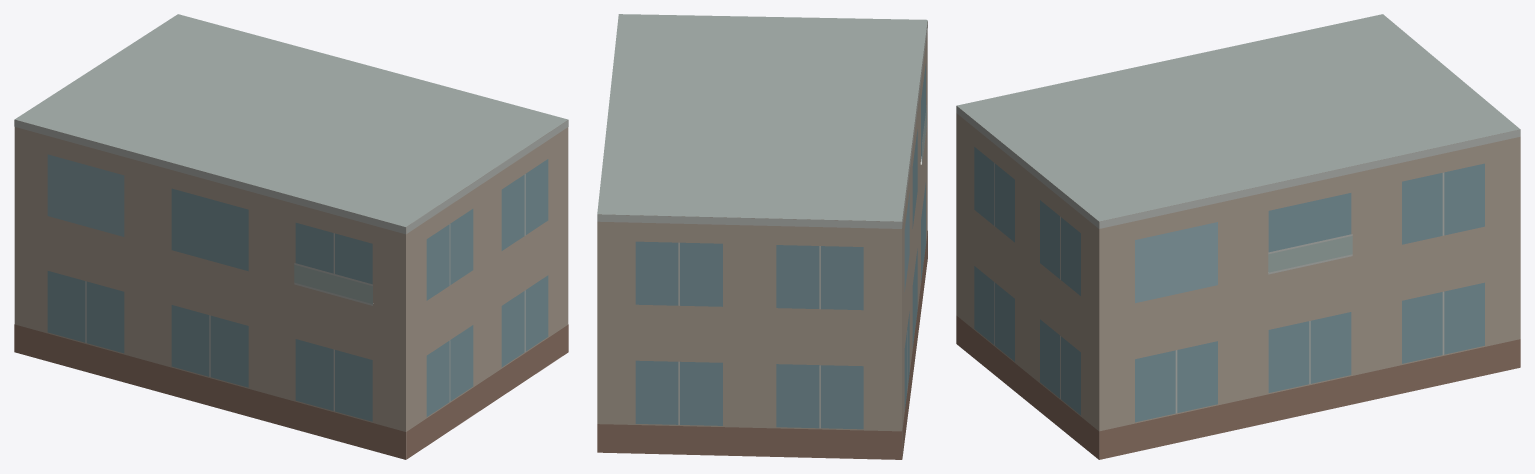
File: survey-upis-32740828.glb
The picture shows the model from 3 angles, left to right: view 1: azimuth 30°, elevation 25°; view 2: azimuth 150°, elevation 25°; view 3: azimuth 270°, elevation 25°; orthographic projection. The views are drawn at different scales.
Visible parts, largest first — view 1: survey-upis-32740828.tmp; view 2: survey-upis-32740828.tmp; view 3: survey-upis-32740828.tmp.
Boxes of the visible parts, left/top/right/bottom form: survey-upis-32740828.tmp: left=14, top=14, right=568, bottom=459; survey-upis-32740828.tmp: left=597, top=14, right=927, bottom=459; survey-upis-32740828.tmp: left=956, top=14, right=1520, bottom=459.
Bounding box in the file's own units: 14.68 × 7.85 × 16.85.
